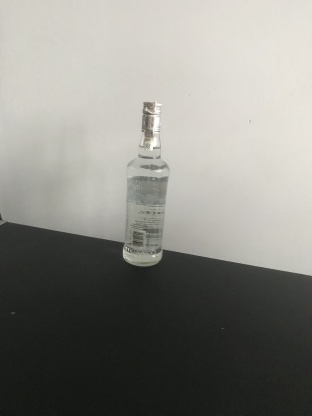nakretka: (140, 99, 163, 134)
